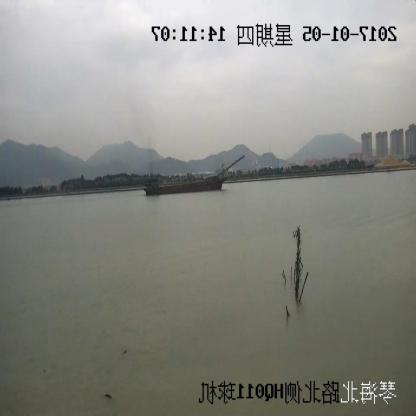Bulk Carrier: (146, 154, 245, 196)
